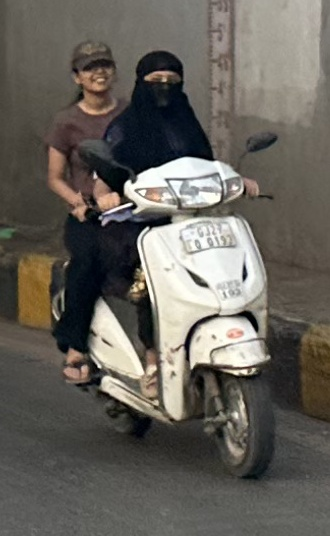BikeWithRider: (35, 31, 291, 484)
NoHelmet: (123, 44, 195, 112), (59, 34, 126, 107)
